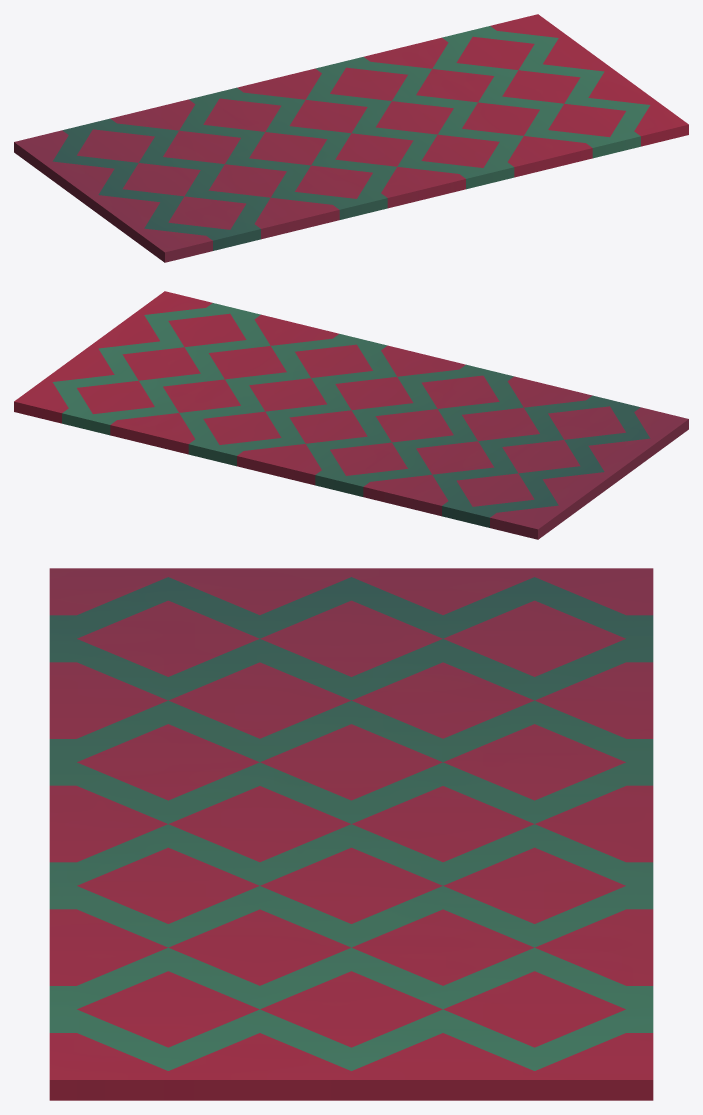
Rendered from carpet02.fbx.
3 views of the same model, one above another, from view 1: azimuth 30°, elevation 25°; view 2: azimuth 150°, elevation 25°; view 3: azimuth 270°, elevation 25° (orthographic). The views are drawn at different scales.
Visible parts, largest first — view 1: carpet02; view 2: carpet02; view 3: carpet02.
Part boxes in pixels (x1=…): carpet02: x1=14, y1=14, x2=688, y2=262; carpet02: x1=14, y1=291, x2=688, y2=539; carpet02: x1=49, y1=568, x2=653, y2=1100.
Bounding box in the file's own units: 1.57 × 0.0298 × 0.7848.
